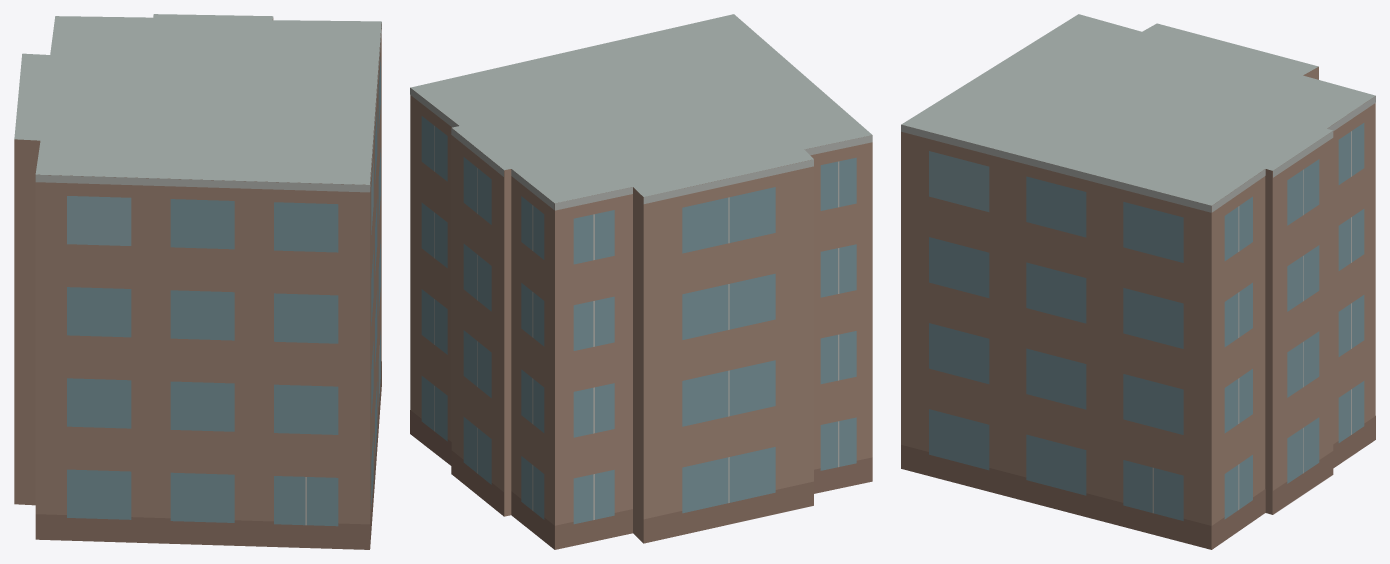
The model's file is survey-upis-32848675.glb.
3 renders of one model, left to right at view 1: azimuth 30°, elevation 25°; view 2: azimuth 150°, elevation 25°; view 3: azimuth 270°, elevation 25°, orthographic. The views are drawn at different scales.
Parts seen in each view (by area): view 1: survey-upis-32848675.tmp; view 2: survey-upis-32848675.tmp; view 3: survey-upis-32848675.tmp.
Part boxes in pixels (bbox=[...]): survey-upis-32848675.tmp: bbox=[14, 14, 381, 549]; survey-upis-32848675.tmp: bbox=[410, 14, 872, 549]; survey-upis-32848675.tmp: bbox=[901, 14, 1375, 549].
Size of the model in its own units: 14.11 by 11.8 by 14.76.
